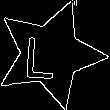L_N: (33, 28, 68, 80)
